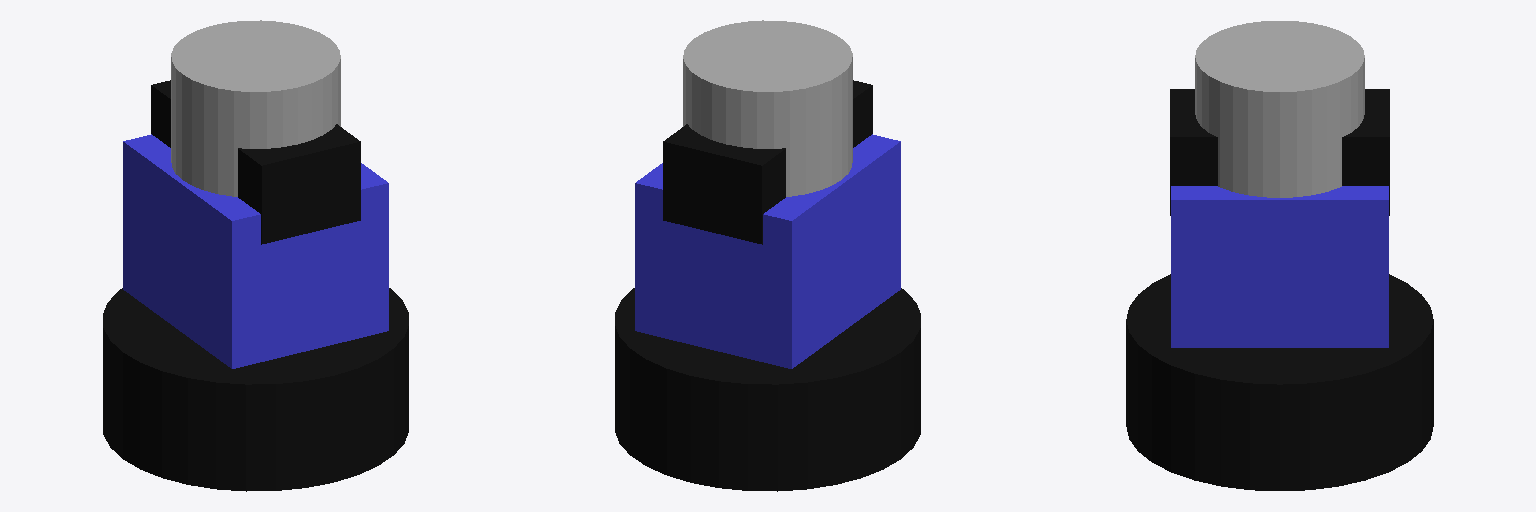
The robot description file, URDF, robot "evolved_robot":
<?xml version="1.0"?>
<robot name="evolved_robot">
  <material name="metal">
    <color rgba="0.7 0.7 0.7 1.0"/>
  </material>
  <material name="plastic">
    <color rgba="0.3 0.3 0.9 1.0"/>
  </material>
  <material name="rubber">
    <color rgba="0.1 0.1 0.1 1.0"/>
  </material>
  <material name="red">
    <color rgba="1.0 0.0 0.0 1.0"/>
  </material>
  <material name="wheel_material">
    <color rgba="0.2 0.2 0.2 1.0"/>
  </material>
  <link name="base_link">
    <visual>
      <geometry><cylinder radius="0.16691049582872597" length="0.12805940470670749"/></geometry>
      <material name="rubber"/>
    </visual>
    <collision>
      <geometry><cylinder radius="0.16691049582872597" length="0.12805940470670749"/></geometry>
    </collision>
    <inertial>
      <mass value="5.0"/>
      <inertia ixx="0.0833137933226748" ixy="0" ixz="0" 
               iyy="0.0833137933226748" iyz="0" 
               izz="0.13929556808895574"/>
    </inertial>
  </link>
  <link name="link1">
    <visual>
      <geometry><cylinder radius="0.0699608877488236" length="0.07570931910548462"/></geometry>
      <material name="plastic"/>
    </visual>
    <collision>
      <geometry><cylinder radius="0.0699608877488236" length="0.07570931910548462"/></geometry>
    </collision>
    <inertial>
      <mass value="0.5"/>
      <inertia ixx="0.0017012898702688823" ixy="0" ixz="0" 
               iyy="0.0017012898702688823" iyz="0" 
               izz="0.002447262907301748"/>
    </inertial>
  </link>
  <joint name="joint1" type="prismatic">
    <parent link="base_link"/>
    <child link="link1"/>
    <origin xyz="0 0 0.06402970235335374" rpy="0 0 0"/>
    <axis xyz="0.015840352470728784 -0.30486286735439244 0.9522645196278506"/>
    <dynamics damping="0.1259254720192044" friction="0.1"/>
    <limit lower="-2.350261717586829" upper="2.5833382780369245" effort="100" velocity="100"/>
  </joint>
  <link name="link2">
    <visual>
      <geometry><box size="0.09107775807378744 0.11283898377872704 0.24986356730430942"/></geometry>
      <material name="plastic"/>
    </visual>
    <collision>
      <geometry><box size="0.09107775807378744 0.11283898377872704 0.24986356730430942"/></geometry>
    </collision>
    <inertial>
      <mass value="0.5"/>
      <inertia ixx="0.006263703210520916" ixy="0" ixz="0" 
               iyy="0.00589391335681521" iyz="0" 
               izz="0.0017523161896635983"/>
    </inertial>
  </link>
  <joint name="joint2" type="floating">
    <parent link="base_link"/>
    <child link="link2"/>
    <origin xyz="0 0 0.11402970235335375" rpy="0 0 0"/>
    <axis xyz="0.26596436018442143 0.8002719966036989 0.5374269164859726"/>
    <dynamics damping="0.8918216140598217" friction="0.1"/>
  </joint>
  <link name="link3">
    <visual>
      <geometry><box size="0.1964524818974509 0.23692683161391276 0.177448172397545"/></geometry>
      <material name="plastic"/>
    </visual>
    <collision>
      <geometry><box size="0.1964524818974509 0.23692683161391276 0.177448172397545"/></geometry>
    </collision>
    <inertial>
      <mass value="0.5"/>
      <inertia ixx="0.0073018481188196855" ixy="0" ixz="0" 
               iyy="0.005840119294241428" iyz="0" 
               izz="0.007893991765189637"/>
    </inertial>
  </link>
  <joint name="joint3" type="fixed">
    <parent link="base_link"/>
    <child link="link3"/>
    <origin xyz="0 0 0.16402970235335373" rpy="0 0 0"/>
    <axis xyz="0.42495071324914696 0.8879421209577194 0.17599909414013534"/>
    <dynamics damping="0.21045667114747402" friction="0.1"/>
  </joint>
  <link name="link4">
    <visual>
      <geometry><cylinder radius="0.0925308639131045" length="0.050850190027248623"/></geometry>
      <material name="rubber"/>
    </visual>
    <collision>
      <geometry><cylinder radius="0.0925308639131045" length="0.050850190027248623"/></geometry>
    </collision>
    <inertial>
      <mass value="0.5"/>
      <inertia ixx="0.0023559686796103077" ixy="0" ixz="0" 
               iyy="0.0023559686796103077" iyz="0" 
               izz="0.004280980388252732"/>
    </inertial>
  </link>
  <joint name="joint4" type="revolute">
    <parent link="base_link"/>
    <child link="link4"/>
    <origin xyz="0 0 0.21402970235335378" rpy="0 0 0"/>
    <axis xyz="0.8458634931015284 0.20927647547918962 0.49063052070686447"/>
    <dynamics damping="0.29303774938440097" friction="0.1"/>
    <limit lower="-0.0" upper="1.8389894793553705" effort="100" velocity="100"/>
  </joint>
  <link name="link5">
    <visual>
      <geometry><box size="0.12442227178542456 0.23956601722592846 0.09456781277942478"/></geometry>
      <material name="rubber"/>
    </visual>
    <collision>
      <geometry><box size="0.12442227178542456 0.23956601722592846 0.09456781277942478"/></geometry>
    </collision>
    <inertial>
      <mass value="0.5"/>
      <inertia ixx="0.005527912318614849" ixy="0" ixz="0" 
               iyy="0.002035331077510866" iyz="0" 
               izz="0.006072731527144992"/>
    </inertial>
  </link>
  <joint name="joint5" type="prismatic">
    <parent link="base_link"/>
    <child link="link5"/>
    <origin xyz="0 0 0.26402970235335377" rpy="0 0 0"/>
    <axis xyz="0.4940467918466 -0.6328633872876243 0.5961557686518824"/>
    <dynamics damping="0.7966155989496675" friction="0.1"/>
    <limit lower="-0.06631870370802115" upper="0.8725966209718942" effort="100" velocity="100"/>
  </joint>
  <link name="link6">
    <visual>
      <geometry><cylinder radius="0.09219783476561011" length="0.1309749899245123"/></geometry>
      <material name="metal"/>
    </visual>
    <collision>
      <geometry><cylinder radius="0.09219783476561011" length="0.1309749899245123"/></geometry>
    </collision>
    <inertial>
      <mass value="0.5"/>
      <inertia ixx="0.003554647516010527" ixy="0" ixz="0" 
               iyy="0.003554647516010527" iyz="0" 
               izz="0.004250220367733372"/>
    </inertial>
  </link>
  <joint name="joint6" type="revolute">
    <parent link="base_link"/>
    <child link="link6"/>
    <origin xyz="0 0 0.31402970235335376" rpy="0 0 0"/>
    <axis xyz="0.2664160495639138 0.9487273102259304 0.17011460656342658"/>
    <dynamics damping="0.4601416217431744" friction="0.1"/>
    <limit lower="-0.45957136471378096" upper="1.7748438257456958" effort="100" velocity="100"/>
  </joint>
</robot>

--- Render facts (derived) ---
Views: 3 orthographic renders of the robot side by side, from view 1: azimuth 30°, elevation 25°; view 2: azimuth 150°, elevation 25°; view 3: azimuth 270°, elevation 25°.
Robot: evolved_robot — 7 links, 6 joints (2 revolute, 2 prismatic, 1 fixed, 1 floating); root link base_link; default pose: all joints at 0.
Links seen in each view (by area): view 1: base_link, link3, link6, link5; view 2: base_link, link3, link6, link5; view 3: base_link, link3, link6, link5.
Boxes of the visible links, left/top/right/bottom form: base_link: left=103, top=288, right=408, bottom=491; link3: left=123, top=134, right=388, bottom=368; link6: left=171, top=20, right=340, bottom=196; link5: left=151, top=80, right=360, bottom=244; base_link: left=615, top=288, right=920, bottom=491; link3: left=635, top=134, right=900, bottom=368; link6: left=683, top=20, right=852, bottom=196; link5: left=663, top=80, right=872, bottom=244; base_link: left=1126, top=274, right=1433, bottom=490; link3: left=1171, top=186, right=1388, bottom=347; link6: left=1195, top=21, right=1364, bottom=197; link5: left=1170, top=89, right=1389, bottom=215.
Bounding box of the posed robot: 0.3338 × 0.3338 × 0.4435 m (x, y, z).
Geometry: primitives only (box / cylinder / sphere), no mesh files.